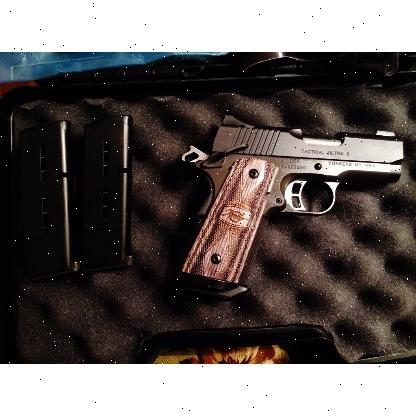gun: (181, 114, 403, 300)
